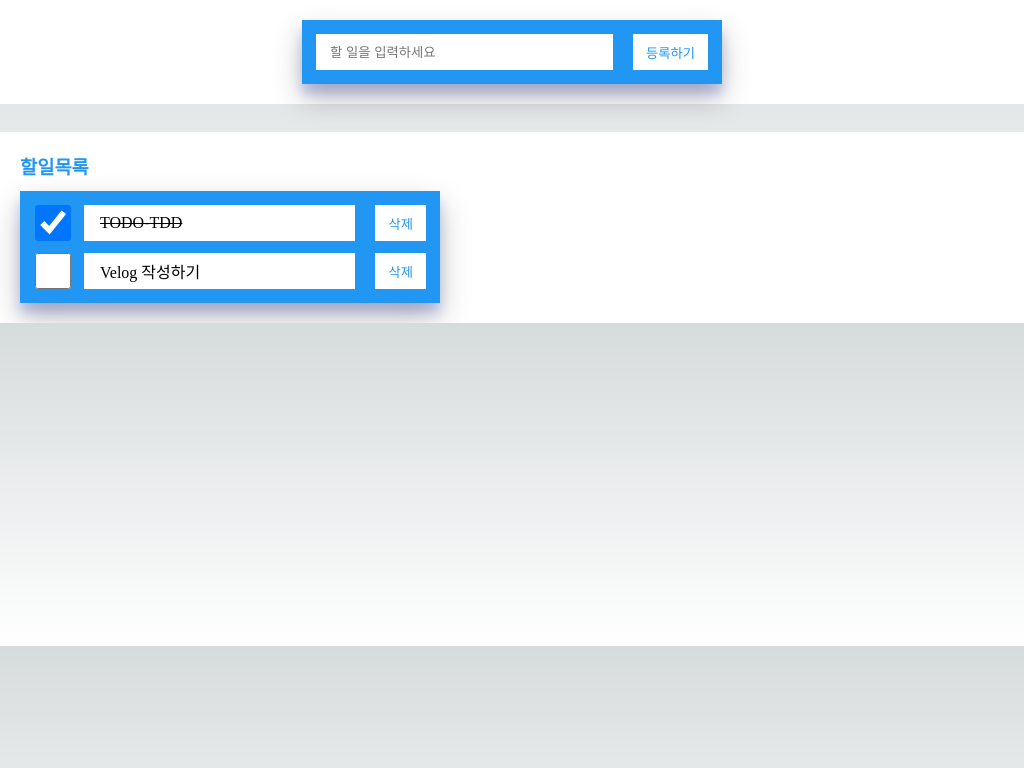
Test: <TodoApp /> › removes todo
The width and height of the screenshot is (1024, 768).
Click the button "삭제" in the row of "TODO-TDD": (401, 223) [376,205,426,241]
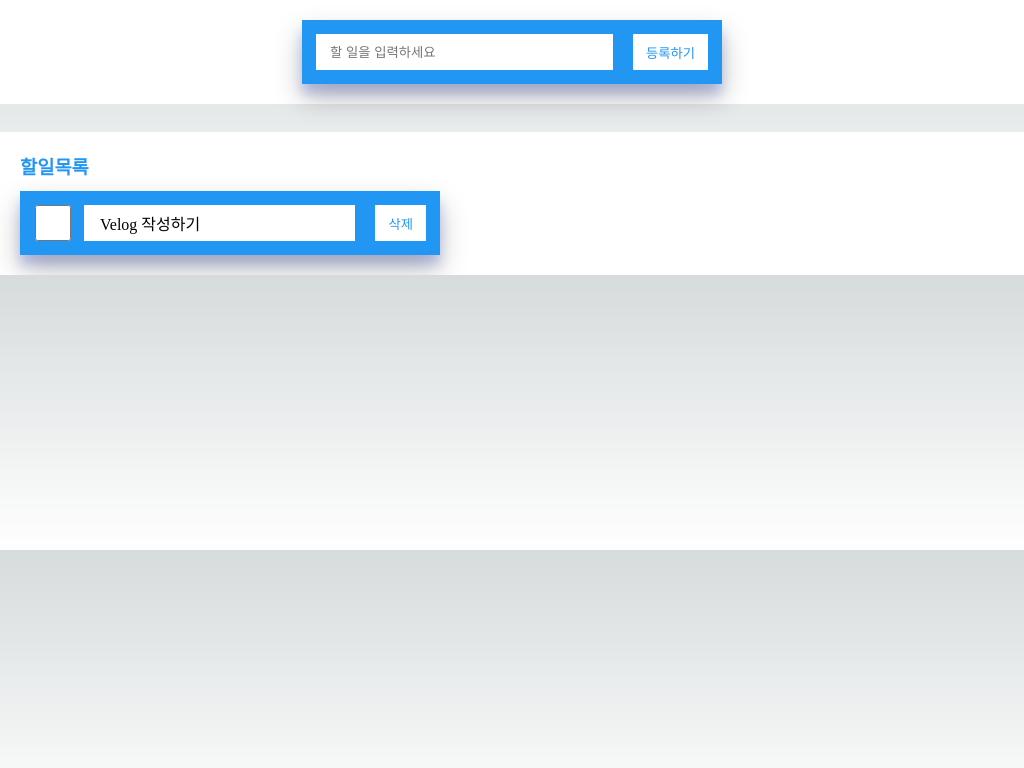
expect the text "TODO-TDD" is gone: met
